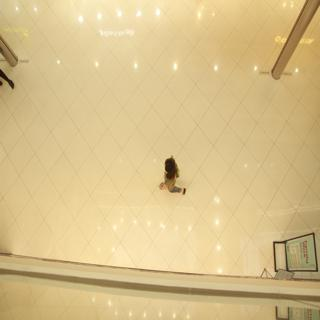person: (155, 148, 202, 210)
